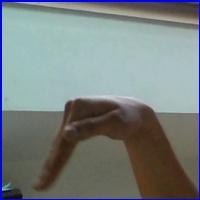A: (51, 91, 158, 188)
